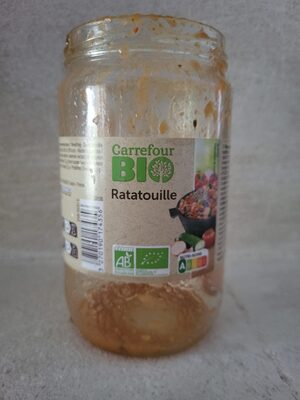Ratatouille: (15, 20, 285, 380)
